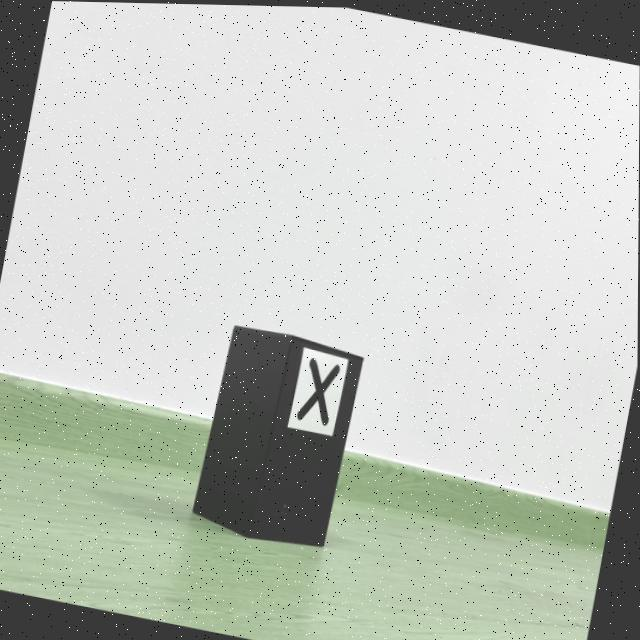X: (297, 357, 340, 424)
